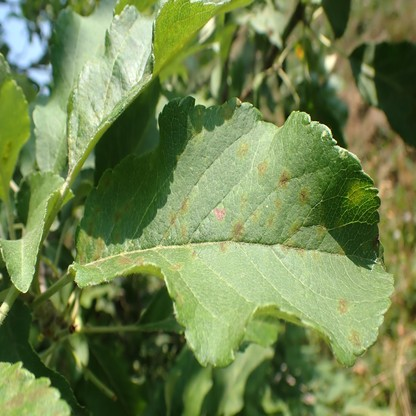frogeye_leaf_spot: (214, 208, 226, 221)
scab: (189, 110, 205, 142), (86, 202, 101, 236), (90, 235, 104, 269), (3, 369, 23, 389), (349, 180, 365, 205), (77, 231, 88, 267), (38, 399, 61, 416), (4, 391, 25, 409), (26, 383, 47, 401), (346, 328, 361, 348), (232, 219, 245, 241), (257, 157, 268, 183), (102, 173, 116, 191), (221, 106, 235, 124), (278, 171, 290, 191), (337, 299, 350, 314), (315, 221, 327, 237), (299, 187, 308, 208), (237, 143, 248, 158), (112, 229, 123, 244), (217, 238, 227, 254), (290, 219, 302, 232), (181, 222, 189, 241), (240, 189, 247, 210), (117, 254, 129, 266), (132, 255, 144, 267), (251, 208, 261, 222), (112, 209, 121, 224), (267, 213, 274, 231), (336, 244, 347, 255), (181, 197, 188, 214), (173, 290, 182, 303), (273, 195, 282, 208), (280, 243, 289, 255), (295, 246, 304, 258), (168, 211, 176, 224), (172, 262, 181, 272), (311, 252, 319, 263), (124, 199, 132, 210), (190, 250, 198, 259)
